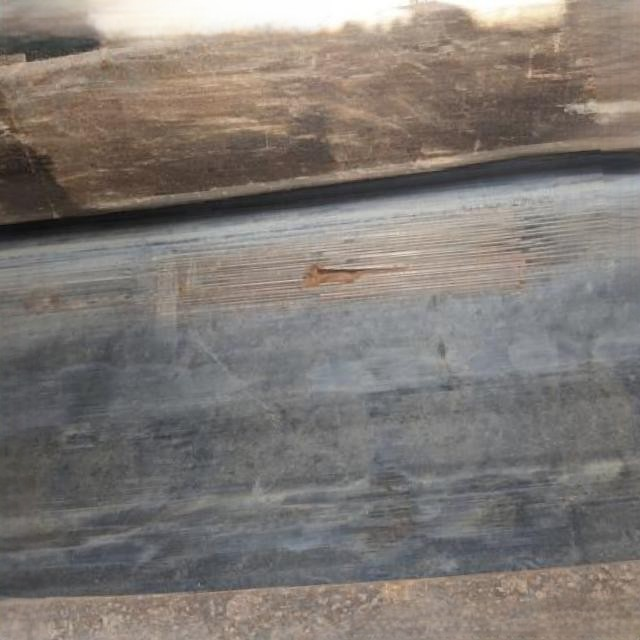Wear: (0, 201, 640, 330)
